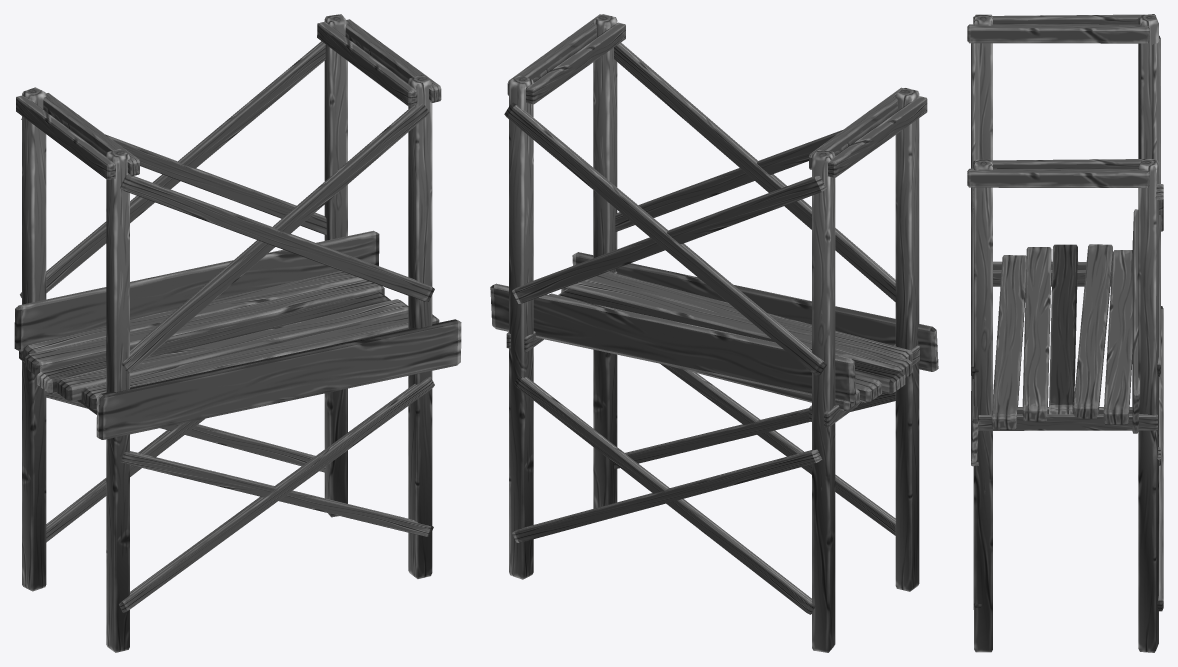
The model's file is SM_Plateforme01.FBX.
3 renders of one model, left to right at view 1: azimuth 30°, elevation 25°; view 2: azimuth 150°, elevation 25°; view 3: azimuth 270°, elevation 25°, orthographic.
Visible parts, largest first — view 1: Plateforme01; view 2: Plateforme01; view 3: Plateforme01.
Part boxes in pixels (x1=…): Plateforme01: x1=14, y1=14, x2=461, y2=652; Plateforme01: x1=490, y1=14, x2=938, y2=652; Plateforme01: x1=967, y1=14, x2=1163, y2=652.
Size of the model in its own units: 398 by 506 by 185.
